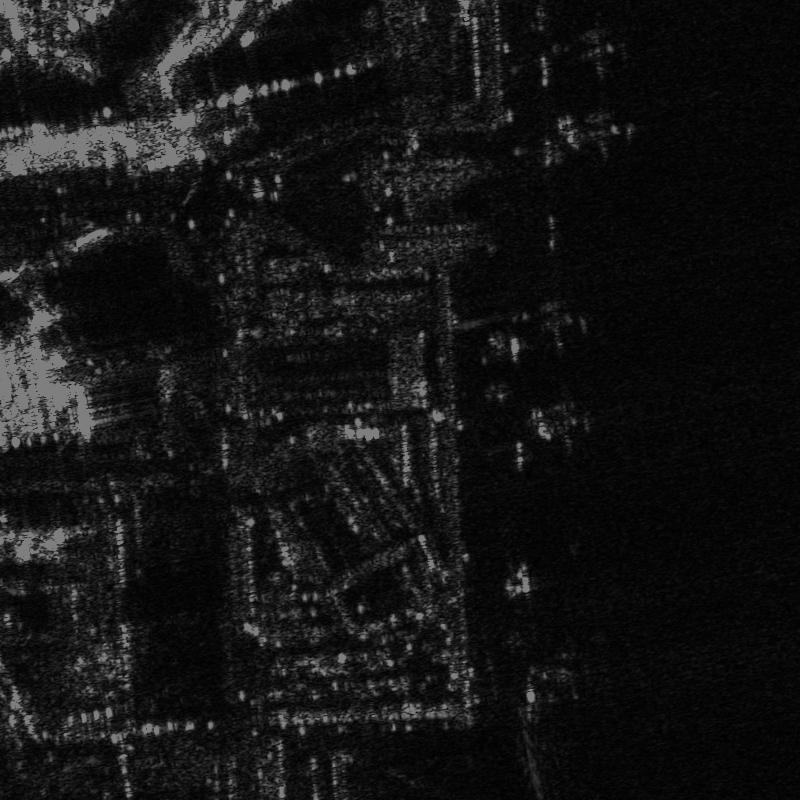A220: (547, 100, 647, 167), (546, 23, 645, 87), (502, 294, 598, 359), (522, 382, 600, 459)
